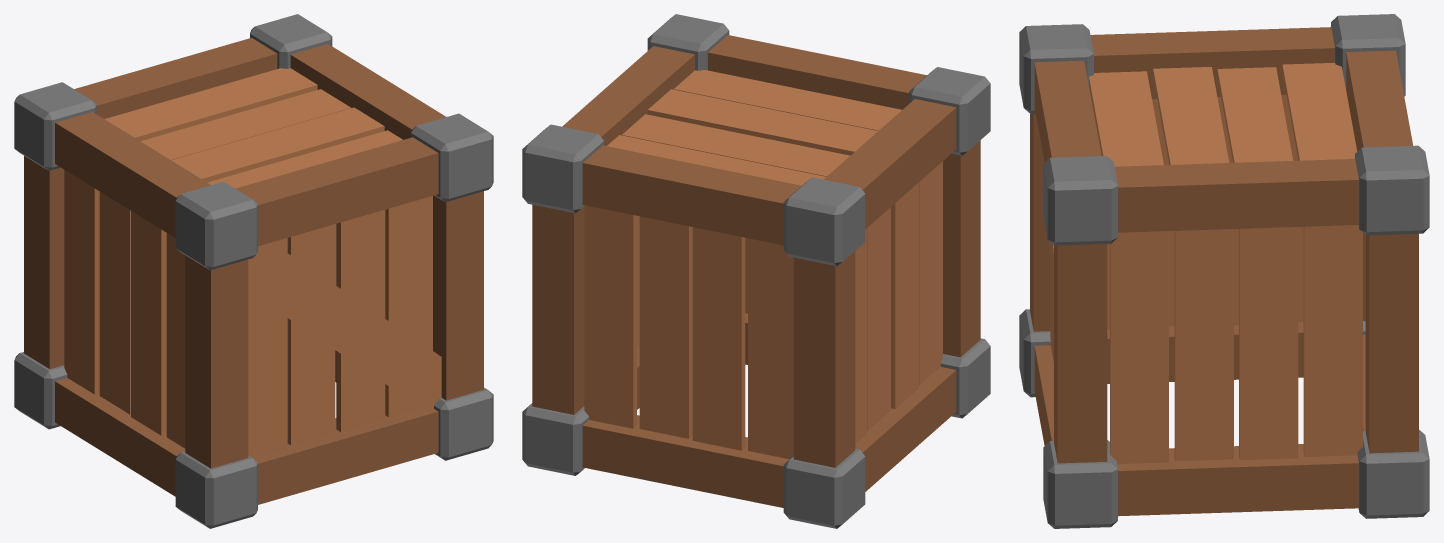
File: Chest.fbx
The picture shows the model from 3 angles, left to right: view 1: azimuth 30°, elevation 25°; view 2: azimuth 150°, elevation 25°; view 3: azimuth 270°, elevation 25°; orthographic projection. The views are drawn at different scales.
Parts seen in each view (by area): view 1: Chest; view 2: Chest; view 3: Chest.
Boxes of the visible parts, x1,y1,x2,y2 form: Chest: [14, 14, 493, 528]; Chest: [522, 14, 990, 528]; Chest: [1019, 14, 1429, 528].
Bounding box in the file's own units: 54.76 × 51.12 × 54.76.
